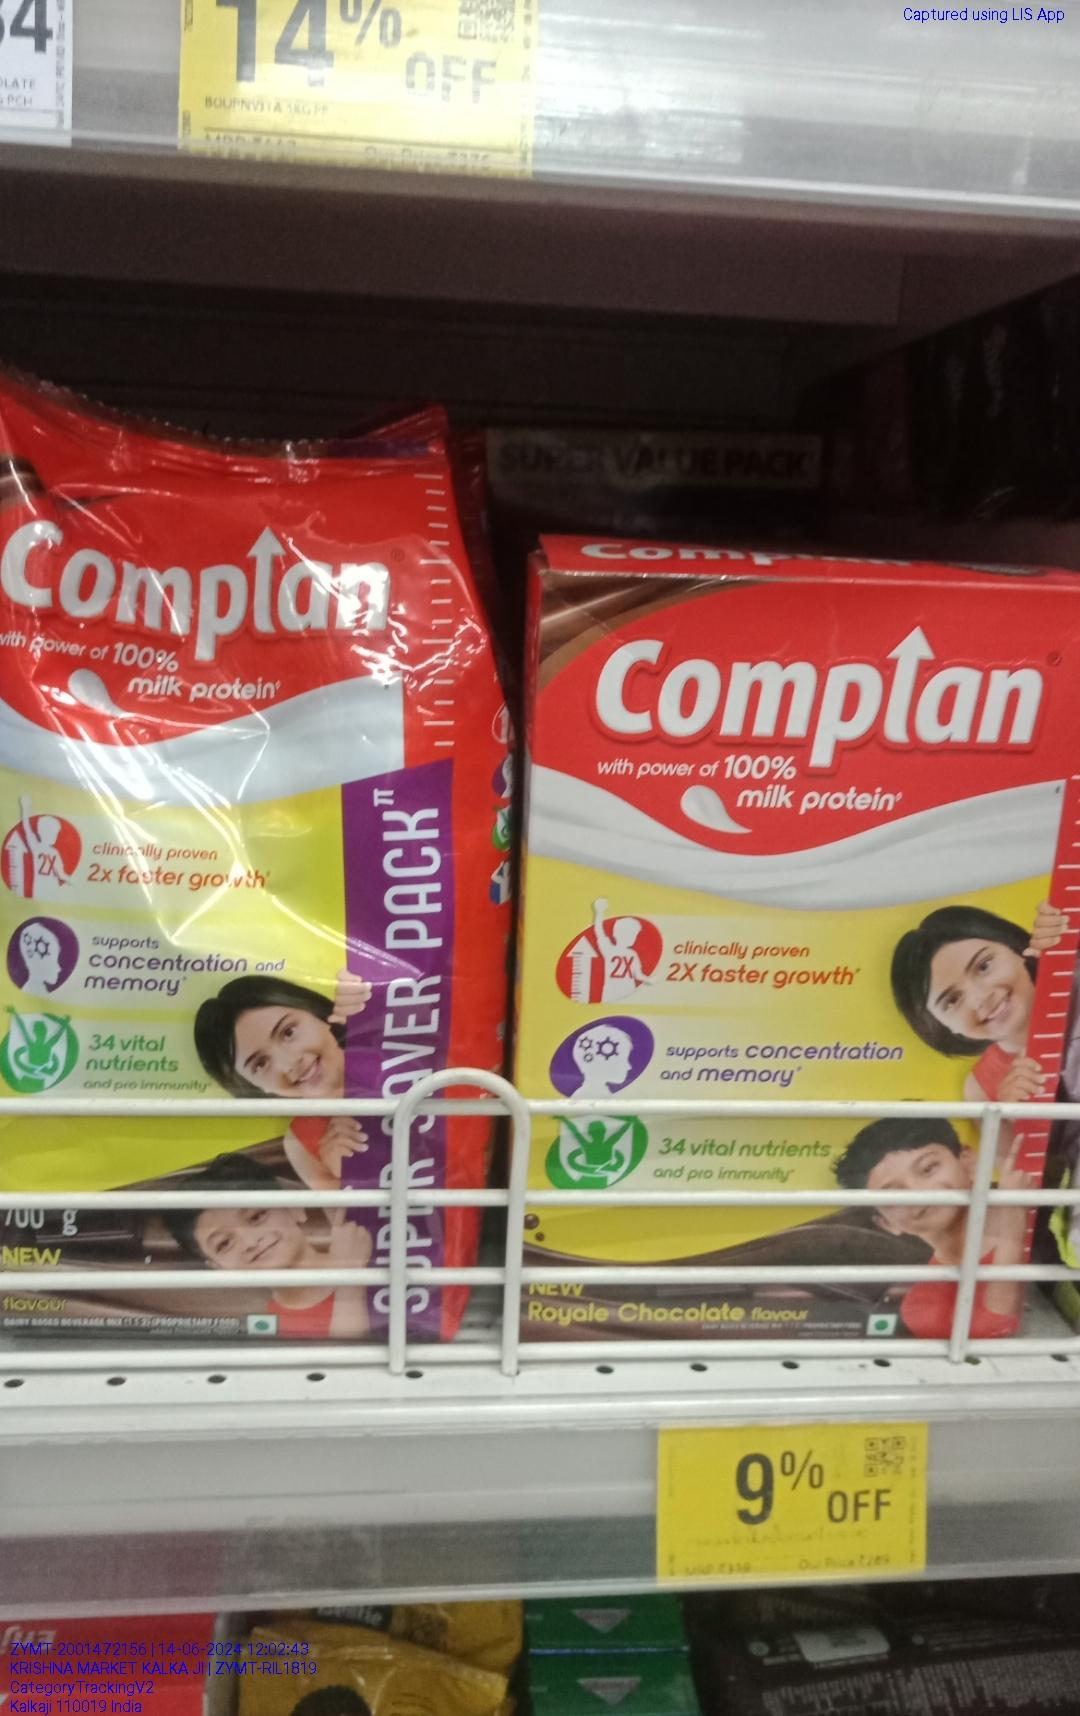COMPLAN_CHOCOLATE_500_GMS_PACK: (526, 551, 1045, 1353)
COMPLAN_RC_POUCH_700_GMS_12: (4, 376, 483, 1378)
